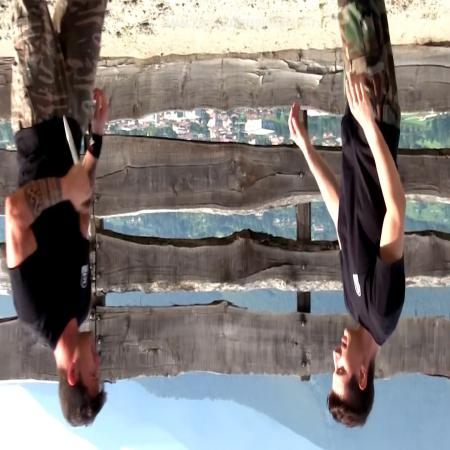long weapon: (60, 112, 92, 206)
